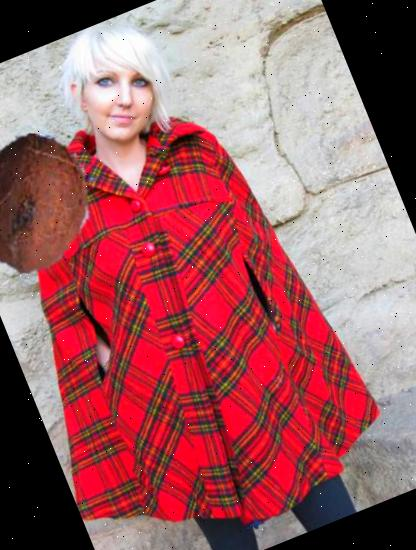Cocos: (0, 111, 124, 295)
